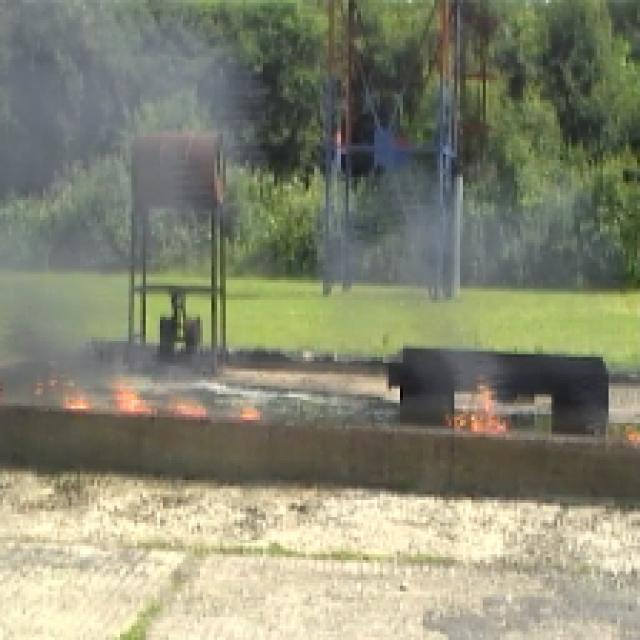Smoke: (0, 42, 135, 232)
